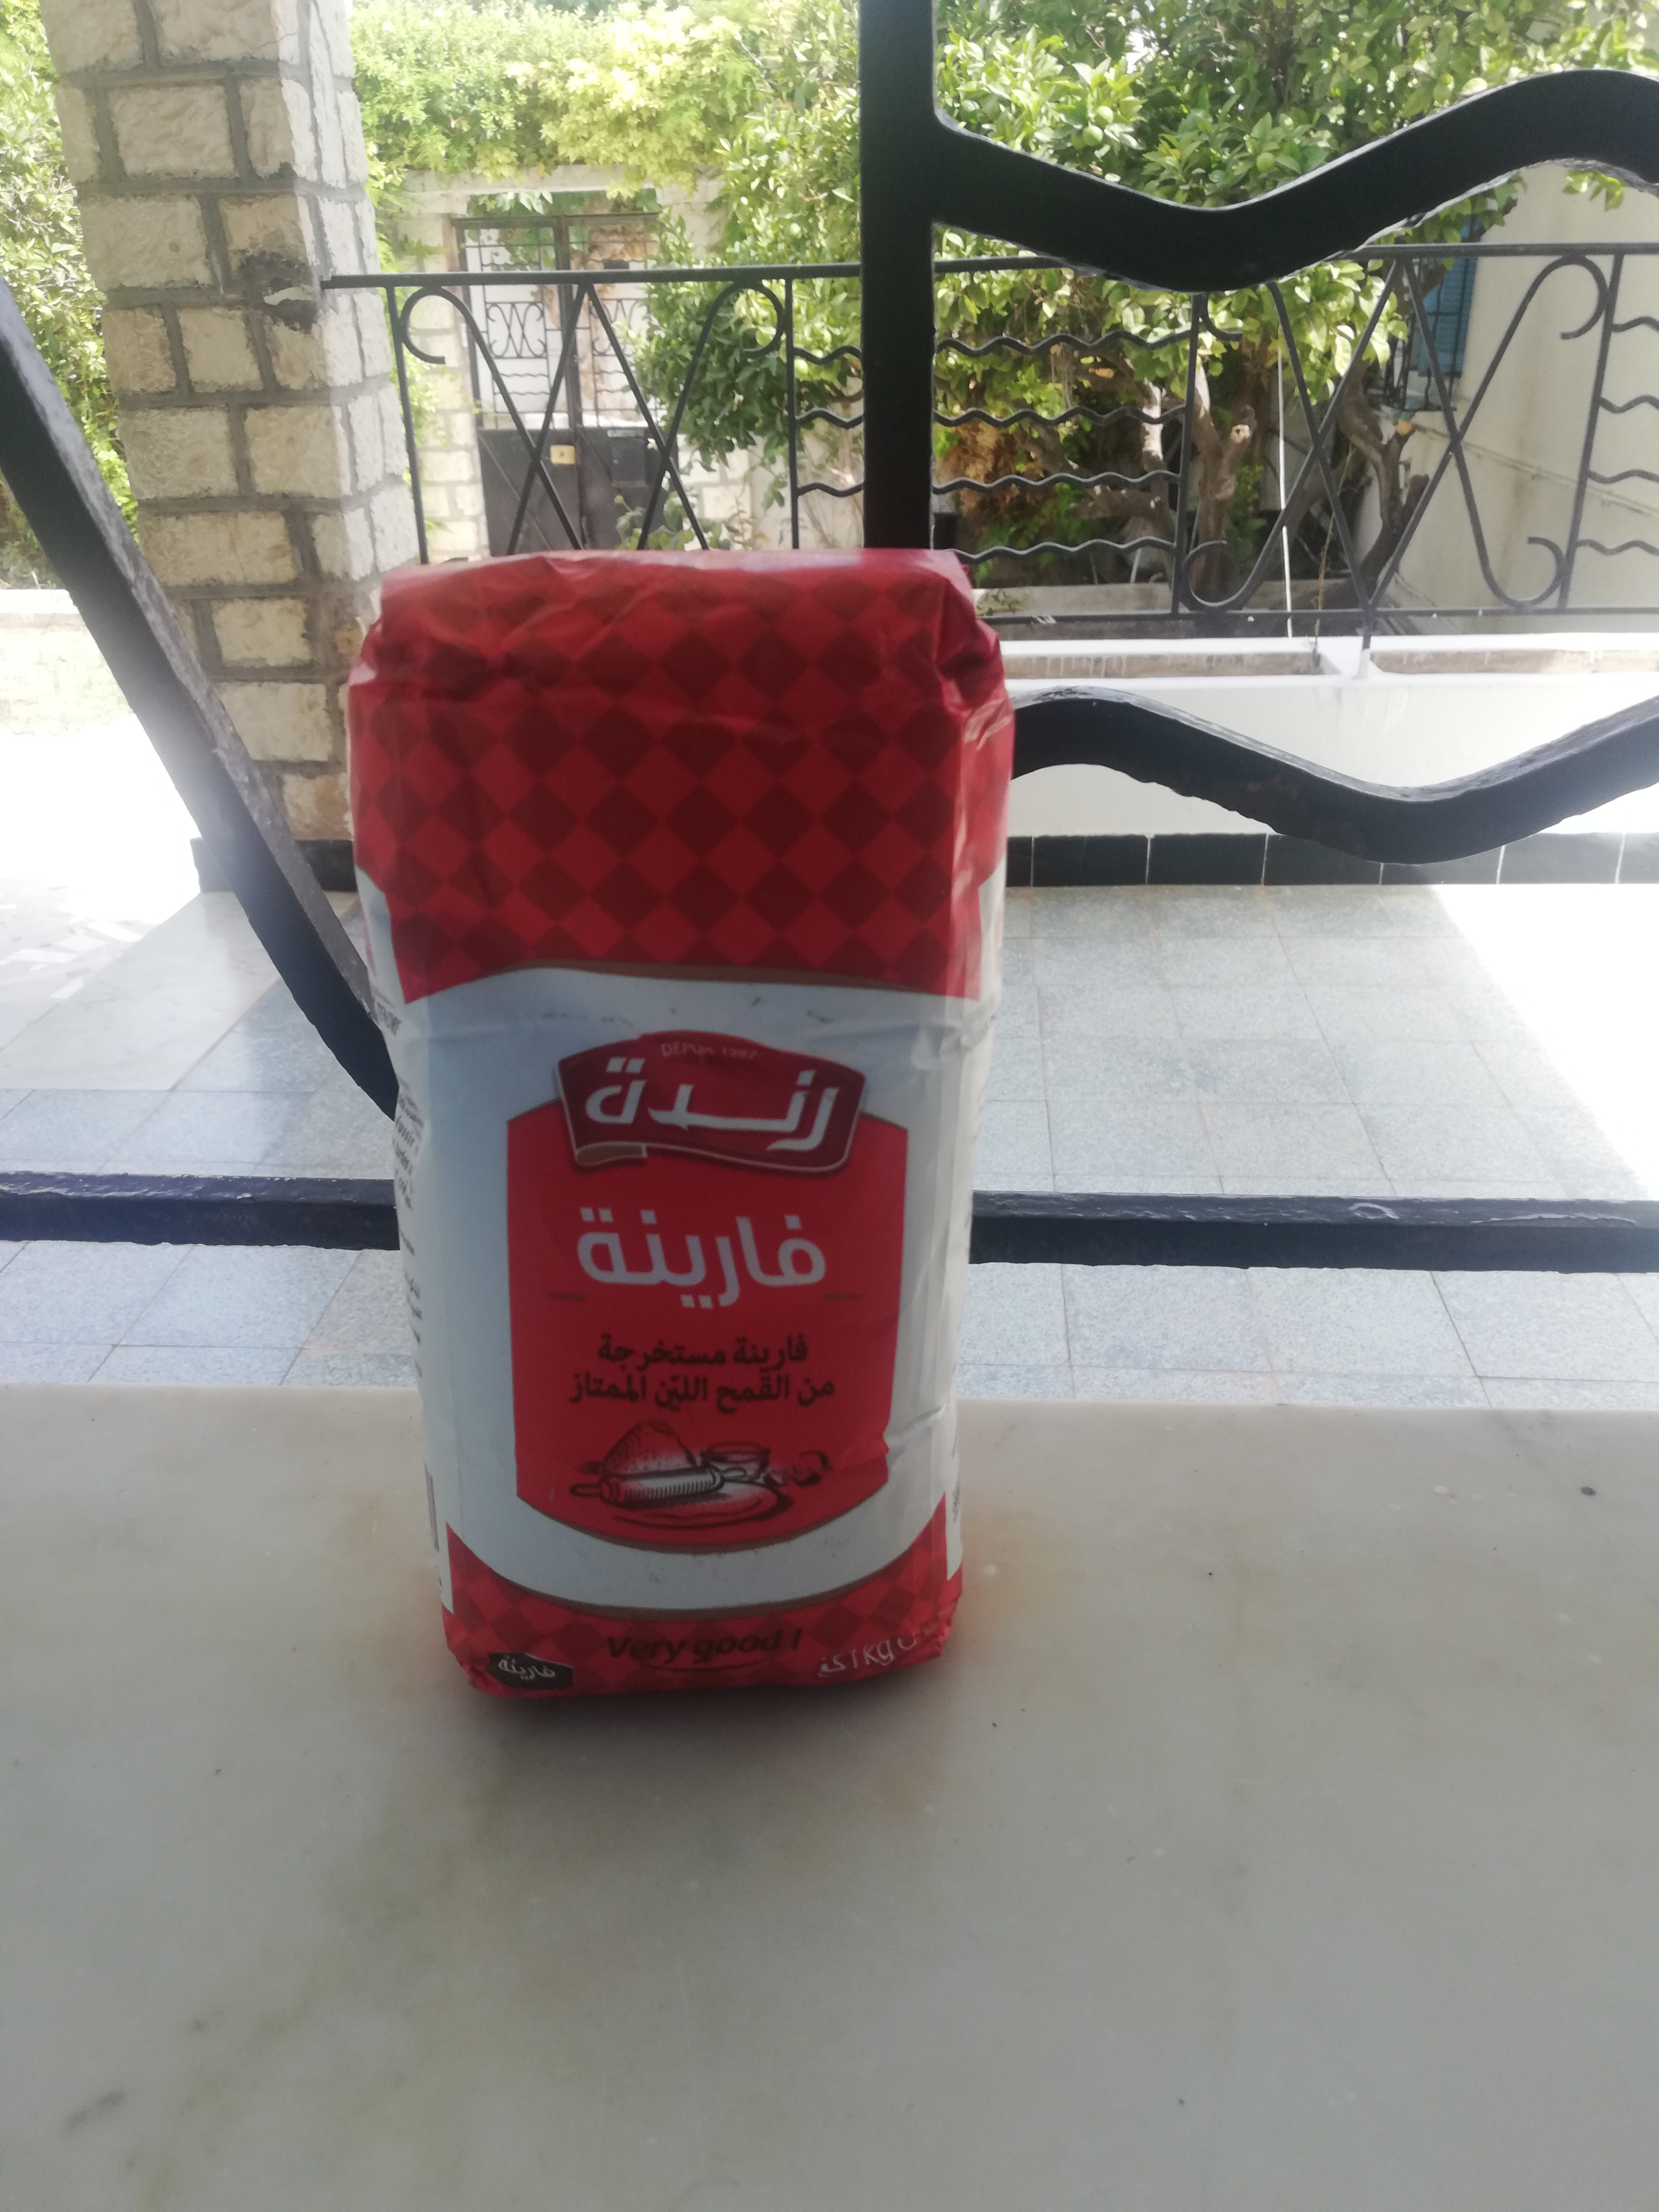Farine Randa: (338, 554, 1018, 1698)
